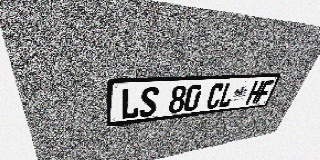0: (182, 84, 203, 112)
8: (168, 85, 188, 114)
C: (205, 83, 225, 109)
F: (255, 80, 274, 103)
H: (245, 81, 265, 104)
L: (120, 87, 141, 120), (217, 82, 237, 108)
S: (139, 86, 159, 117)
